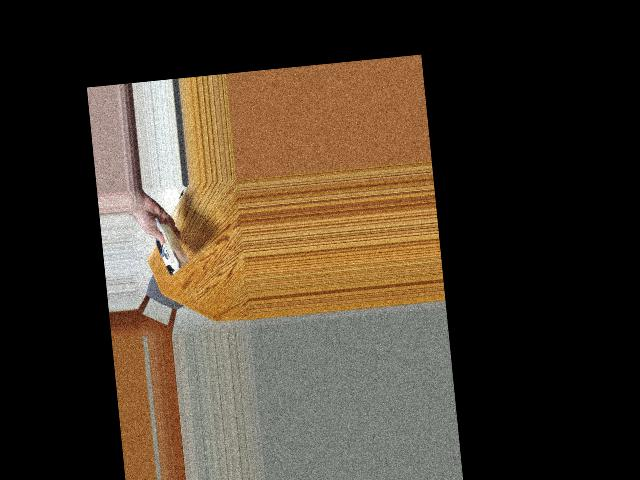cheese: (144, 220, 191, 275)
